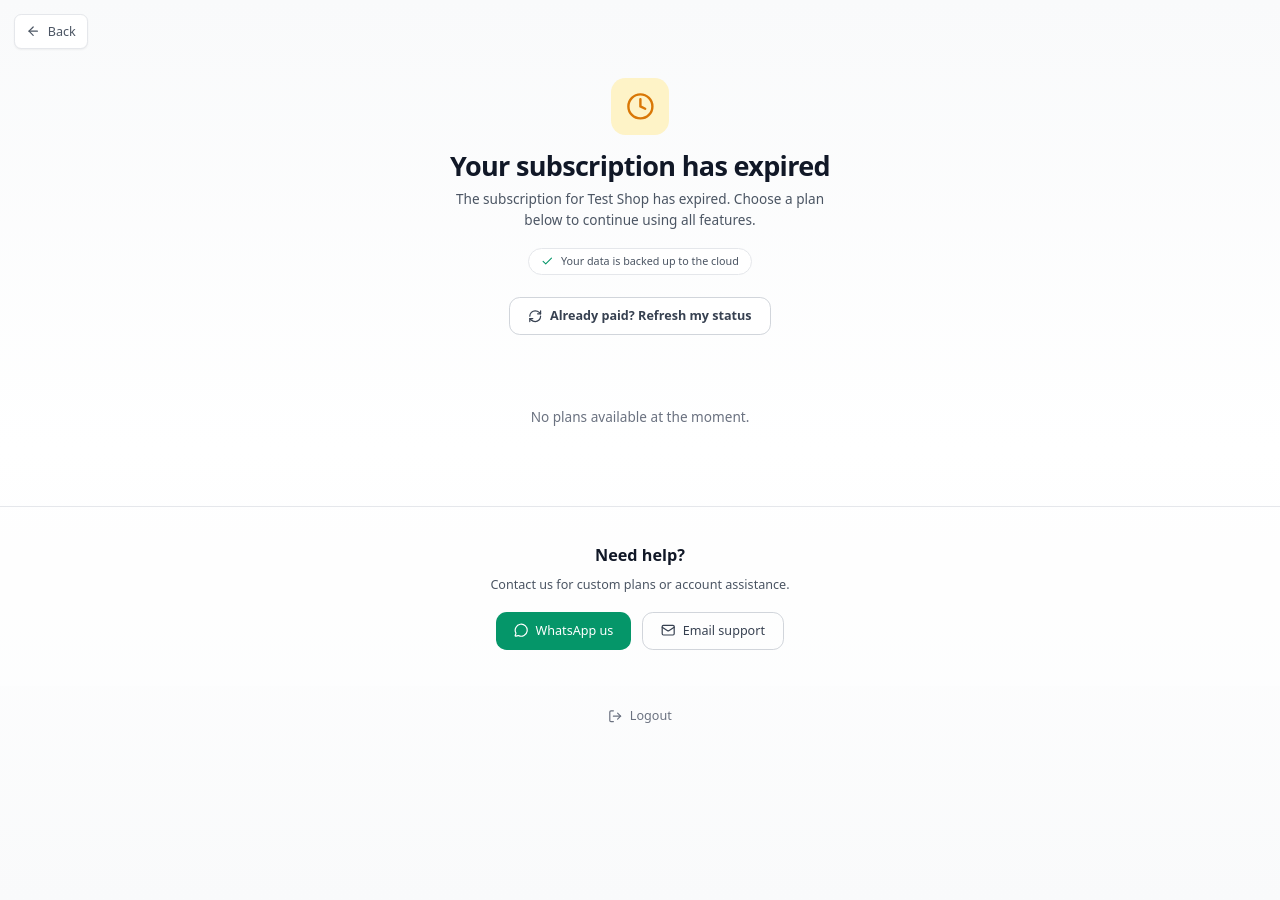
Test case: TrialExpired — "already paid" recovery › says no payment found yet when the cloud still shows them unpaid
Click the button "Already paid? Refresh my status" at (640, 316), box [509,297,771,335]
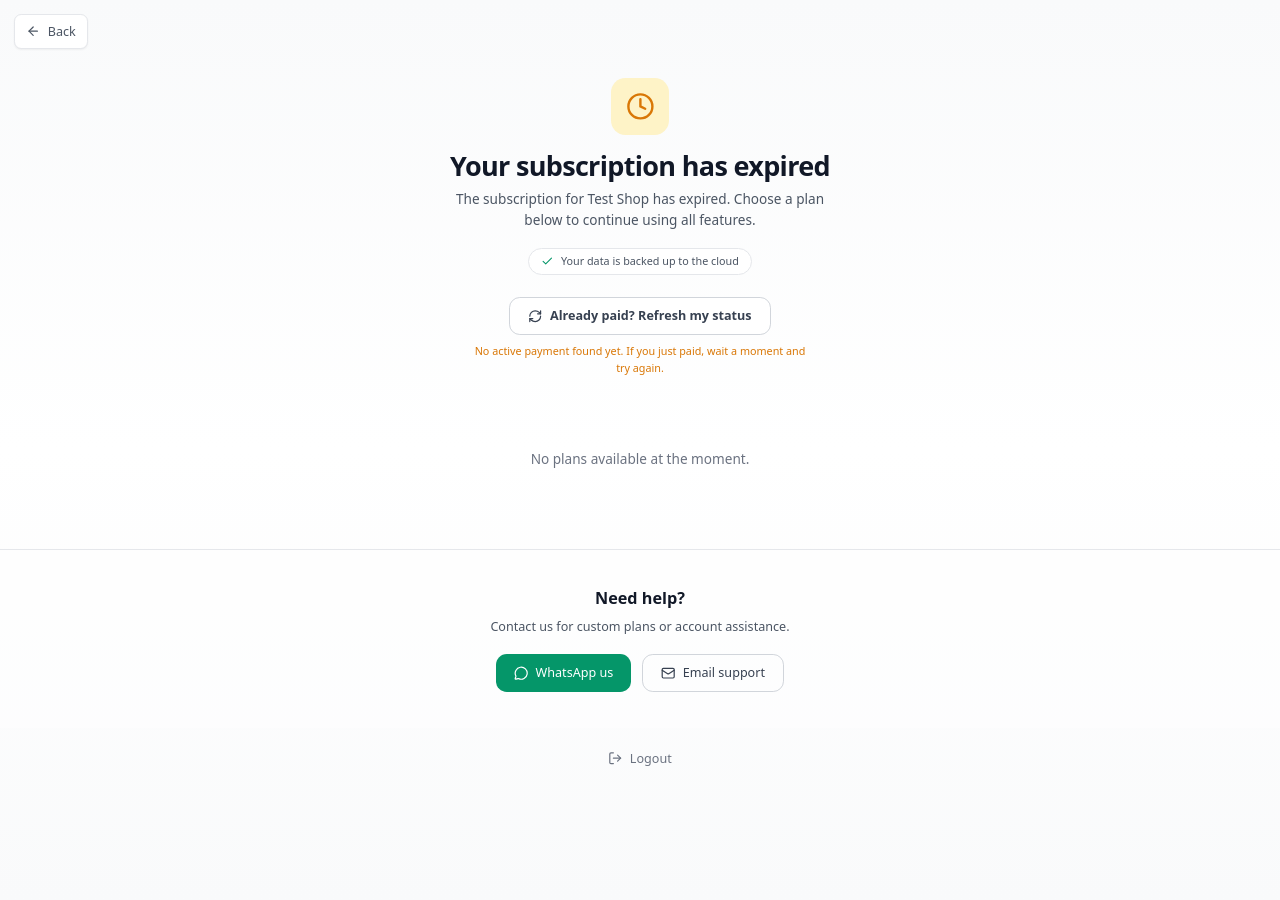
Now the text "No active payment found yet. If you just paid, wait a moment and try again." is shown, box [467,342,813,377]
